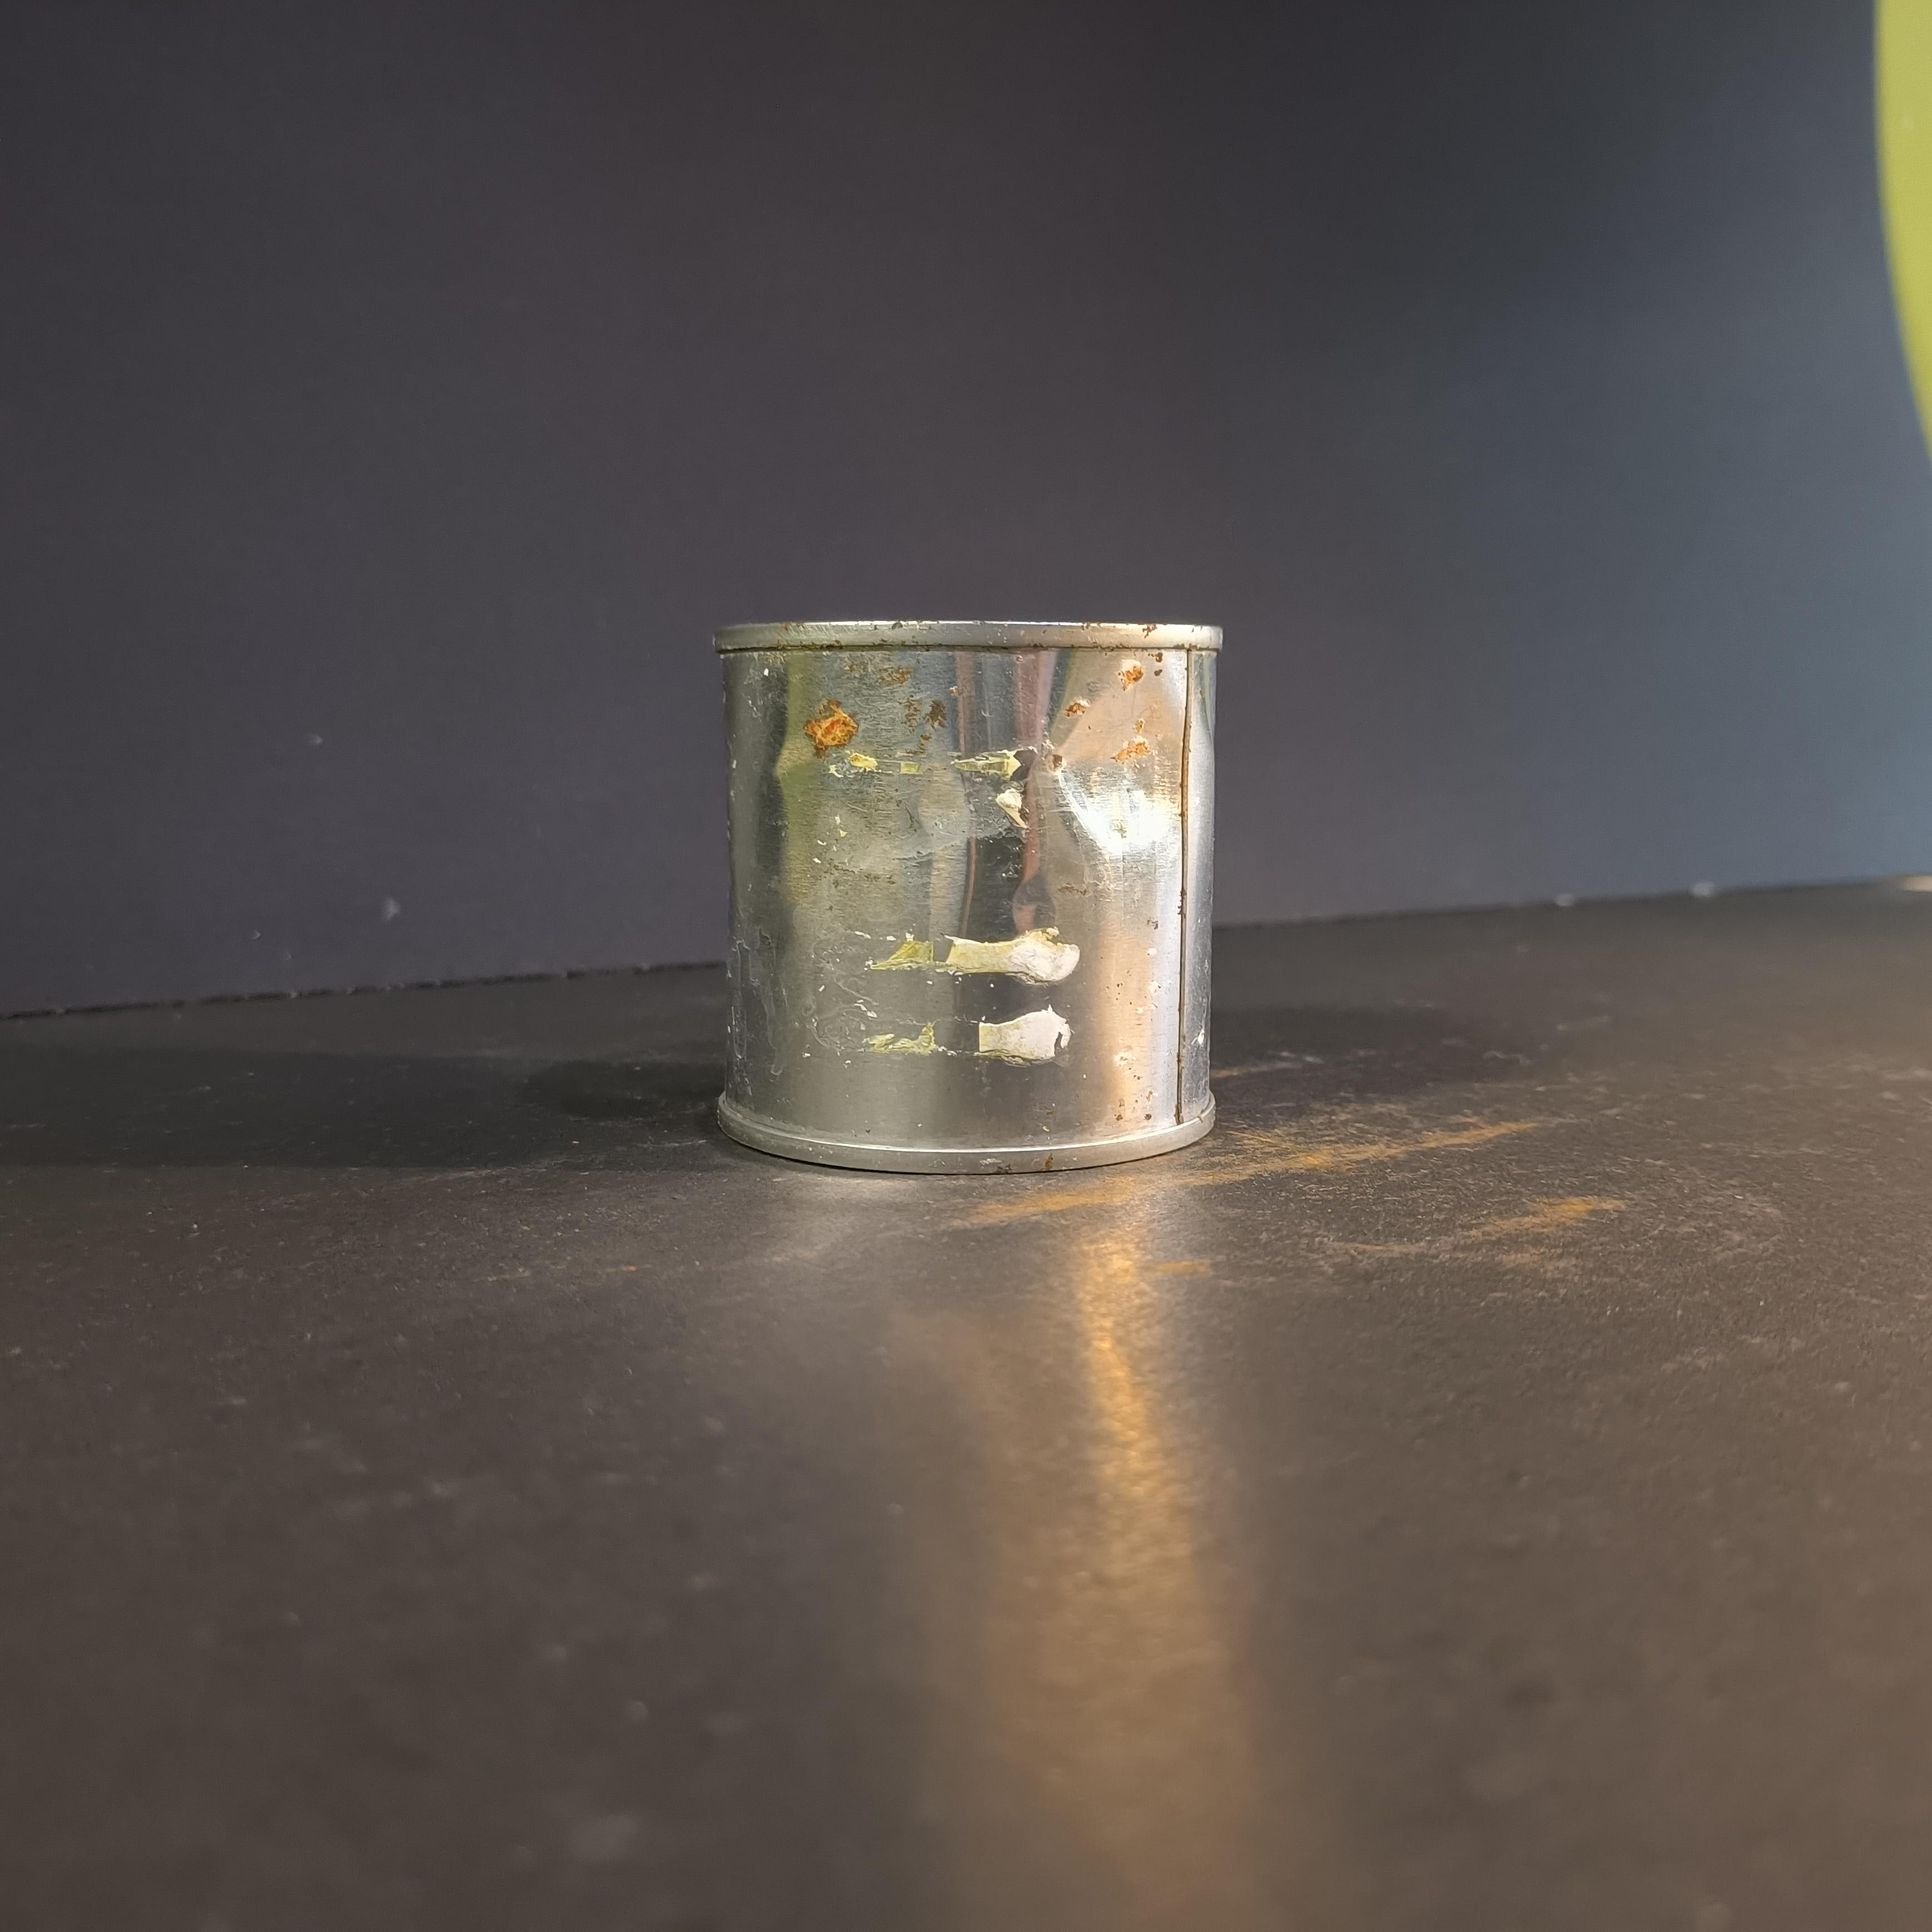Minor Defect: (715, 620, 1223, 1175)
